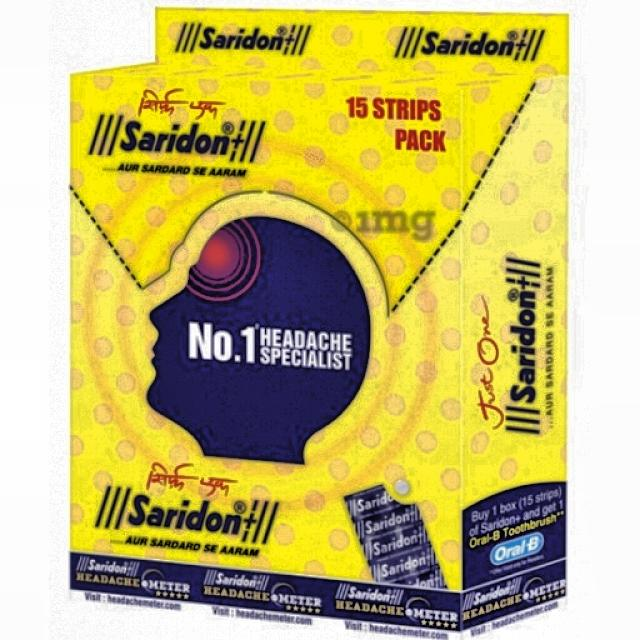Saridon: (88, 99, 281, 200)
